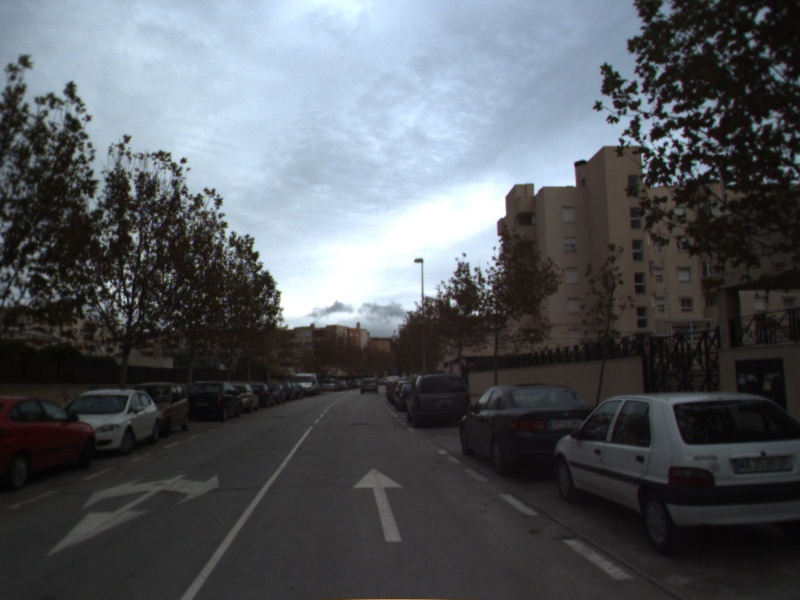STRAIGHT: (351, 466, 406, 544)
